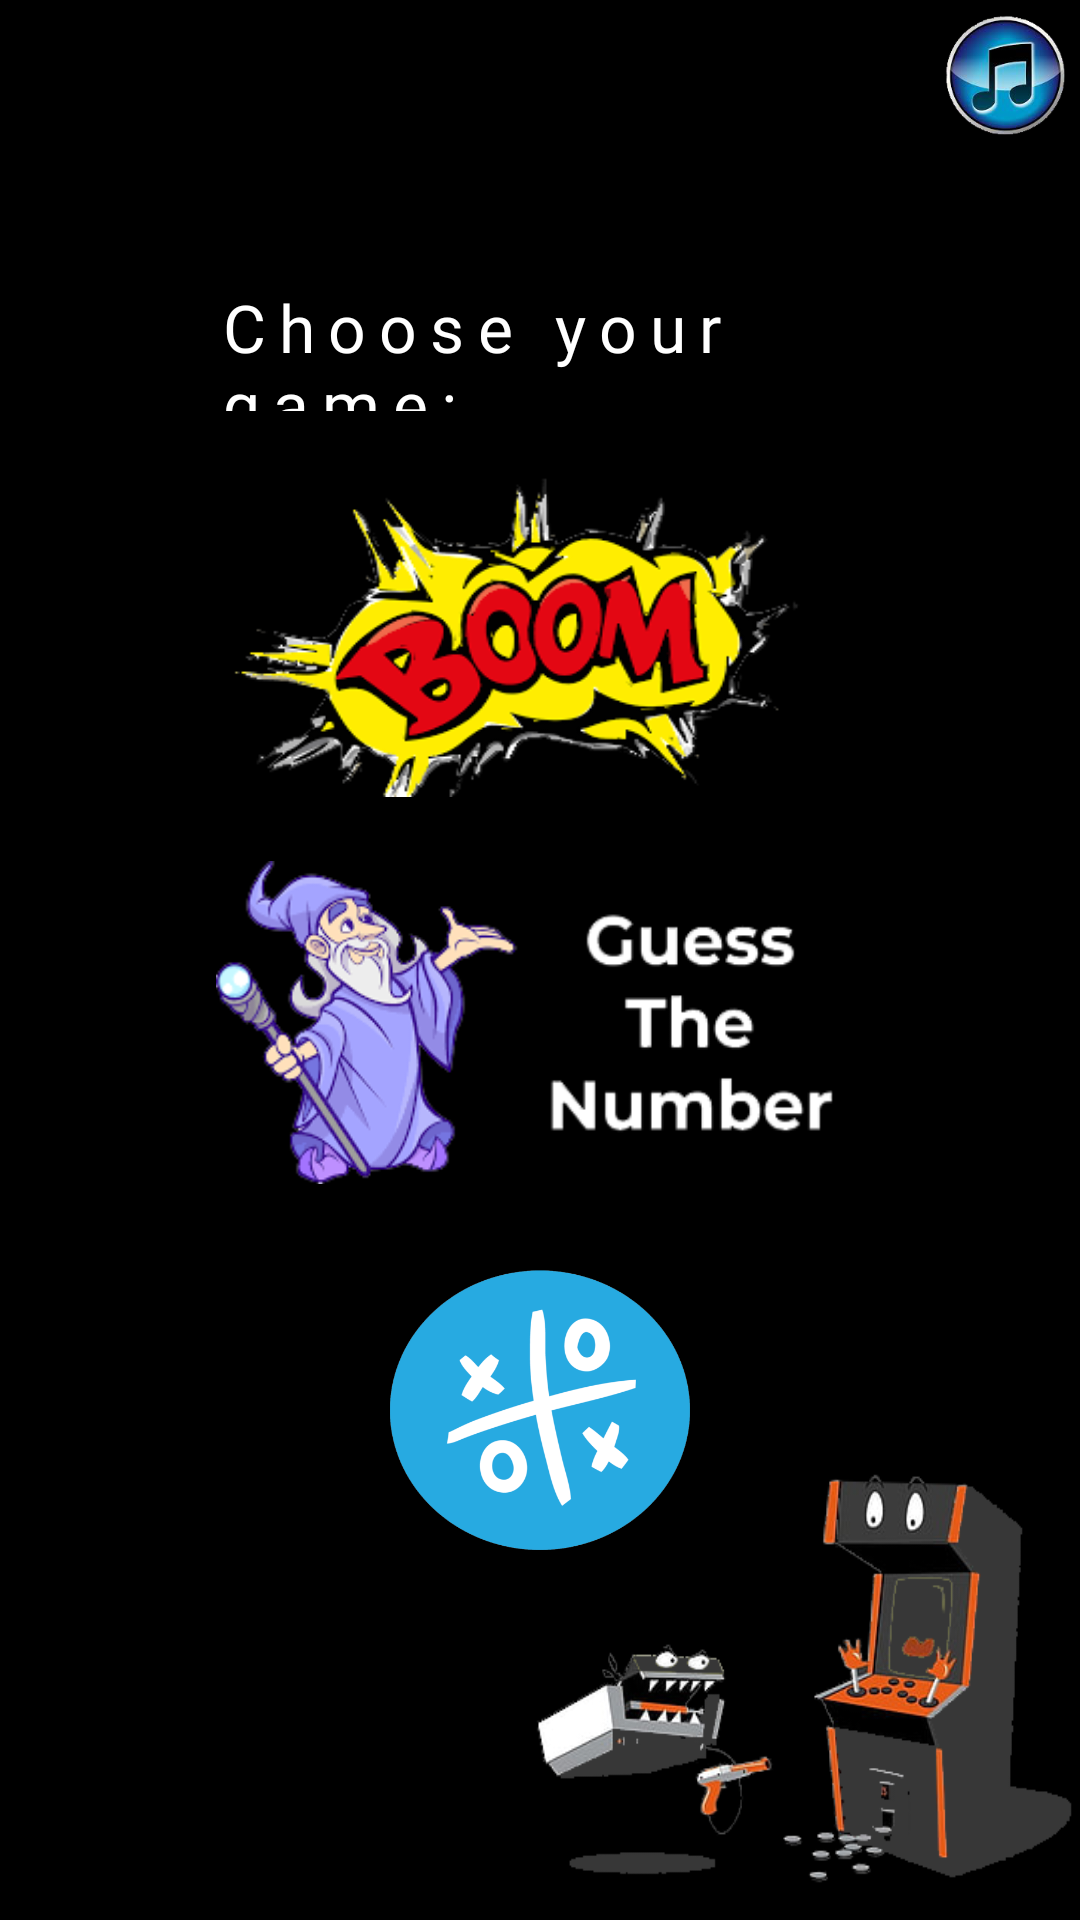

Icon click points for this 1080 × 1920 phone screenshot, format (x=x, y=y):
tic tac toe: (x=540, y=1410)
